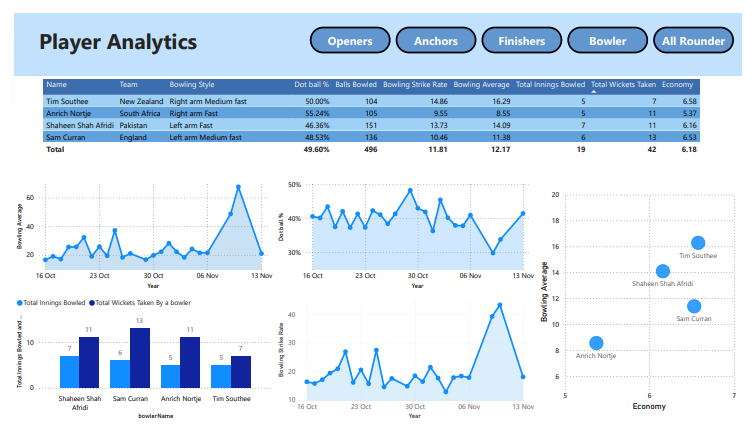

This screenshot's page, from the dashboard's own definition file:
{"tool":"powerbi","page":{"name":"Fast Bowlers","canvas":[1280,720],"ordinal":3},"visuals":[{"type":"tableEx","fields":{"Values":["dim_players.name","dim_players.team","dim_players.bowlingStyle","key_measures.Dot ball %","key_measures.balls Bowled","key_measures.Bowling Strike Rate","key_measures.Bowling Average","key_measures.Total Innings Bowled","key_measures.Total Wickets Taken By a bowler","key_measures.Economy"]},"box":[46.7,110,1186.7,176.7],"z":0},{"type":"lineChart","fields":{"Y":["key_measures.Bowling Average"],"Category":["dim_match_summary.matchDate.Variation.Date Hierarchy.Year","dim_match_summary.matchDate.Variation.Date Hierarchy.Quarter","dim_match_summary.matchDate.Variation.Date Hierarchy.Month","dim_match_summary.matchDate.Variation.Date Hierarchy.Day"]},"box":[0,285,460,205],"z":1000},{"type":"clusteredColumnChart","fields":{"Y":["key_measures.Total Innings Bowled","key_measures.Total Wickets Taken By a bowler"],"Category":["fact_bowling_summary.bowlerName"]},"box":[0,490,460,230],"z":2000},{"type":"scatterChart","fields":{"Category":["dim_players.name"],"X":["key_measures.Economy"],"Y":["key_measures.Bowling Average"]},"box":[920,305,360,400],"z":3000},{"type":"lineChart","fields":{"Y":["key_measures.Dot ball %"],"Category":["dim_match_summary.matchDate.Variation.Date Hierarchy.Year","dim_match_summary.matchDate.Variation.Date Hierarchy.Quarter","dim_match_summary.matchDate.Variation.Date Hierarchy.Month","dim_match_summary.matchDate.Variation.Date Hierarchy.Day"]},"box":[460,286.7,460,203.3],"z":4000},{"type":"textbox","box":[0,0,1280,110],"z":5000},{"type":"lineChart","fields":{"Y":["key_measures.Bowling Strike Rate"],"Category":["dim_match_summary.matchDate.Variation.Date Hierarchy.Year","dim_match_summary.matchDate.Variation.Date Hierarchy.Quarter","dim_match_summary.matchDate.Variation.Date Hierarchy.Month","dim_match_summary.matchDate.Variation.Date Hierarchy.Day"]},"box":[460,490,460,230],"z":6000},{"type":"actionButton","box":[672.4,23.3,141.3,46.7],"z":7000},{"type":"actionButton","box":[823.3,23.3,141.3,46.7],"z":8000},{"type":"actionButton","box":[974.3,23.3,141.3,46.7],"z":9000},{"type":"actionButton","box":[1125.2,23.3,141.3,46.7],"z":10000},{"type":"actionButton","box":[521.4,23.3,141.3,46.7],"z":11000}]}

Visuals, with their boxes in screenshot pixels (x1, y1, x2, y2), scaled from the page's 1280x720 canvas onto the 753x432 screenshot:
tableEx - dim_players.name x dim_players.team: [left=27, top=66, right=726, bottom=172]
lineChart - key_measures.Bowling Average x dim_match_summary.matchDate.Variation.Date Hierarchy.Year: [left=0, top=171, right=271, bottom=294]
clusteredColumnChart - key_measures.Total Innings Bowled x key_measures.Total Wickets Taken By a bowler: [left=0, top=294, right=271, bottom=431]
scatterChart - dim_players.name x key_measures.Economy: [left=541, top=183, right=752, bottom=423]
lineChart - key_measures.Dot ball % x dim_match_summary.matchDate.Variation.Date Hierarchy.Year: [left=271, top=172, right=541, bottom=294]
textbox: [left=0, top=0, right=752, bottom=66]
lineChart - key_measures.Bowling Strike Rate x dim_match_summary.matchDate.Variation.Date Hierarchy.Year: [left=271, top=294, right=541, bottom=431]
actionButton: [left=396, top=14, right=479, bottom=42]
actionButton: [left=484, top=14, right=567, bottom=42]
actionButton: [left=573, top=14, right=656, bottom=42]
actionButton: [left=662, top=14, right=745, bottom=42]
actionButton: [left=307, top=14, right=390, bottom=42]
